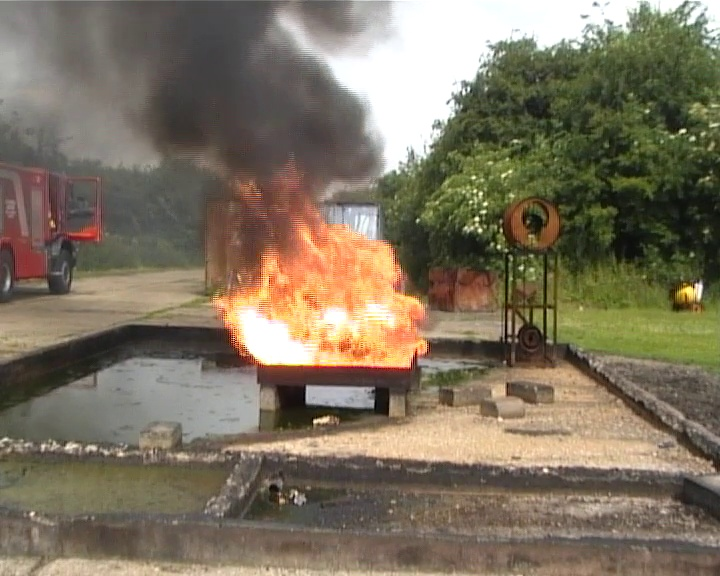fire: (232, 233, 415, 364), (680, 284, 702, 299)
